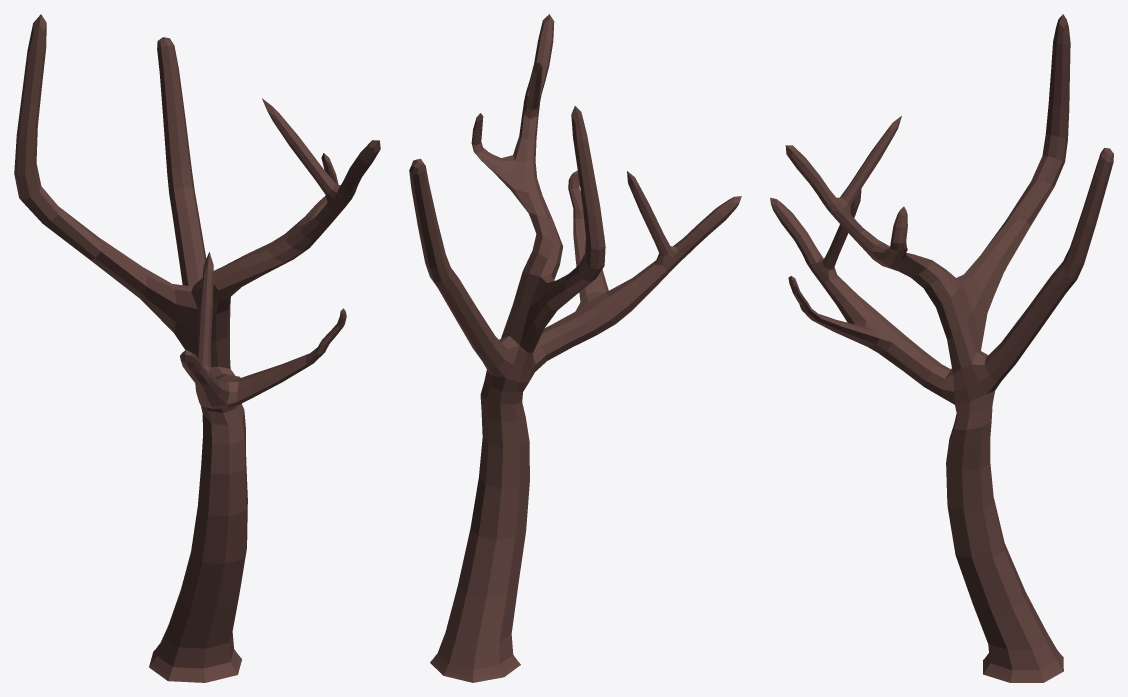
The model's file is CommonTree_Dead_5.glb.
3 renders of one model, left to right at view 1: azimuth 30°, elevation 25°; view 2: azimuth 150°, elevation 25°; view 3: azimuth 270°, elevation 25°, orthographic. The views are drawn at different scales.
Parts seen in each view (by area): view 1: CommonTree_Dead_5; view 2: CommonTree_Dead_5; view 3: CommonTree_Dead_5.
Part boxes in pixels (x1,y1,x2,y2): CommonTree_Dead_5: [14, 14, 380, 682]; CommonTree_Dead_5: [409, 14, 741, 682]; CommonTree_Dead_5: [770, 14, 1113, 682].
Size of the model in its own units: 0.8443 by 2.3 by 1.2.
